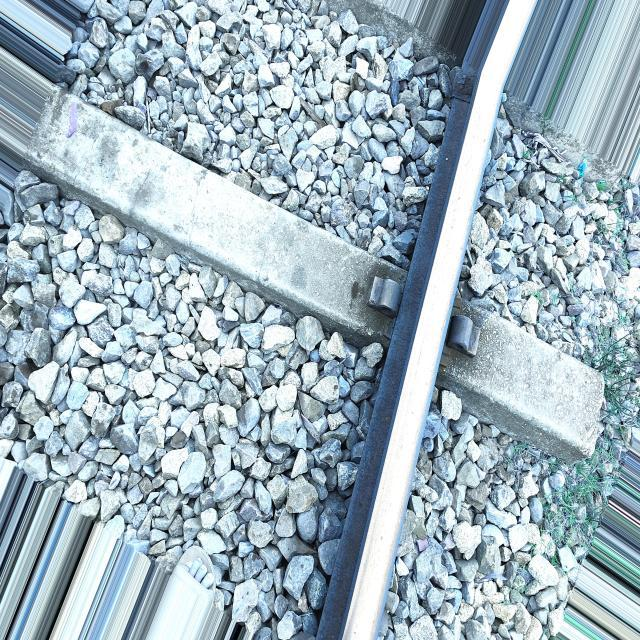Missing Fastener: (434, 297, 507, 418), (364, 252, 406, 340)
